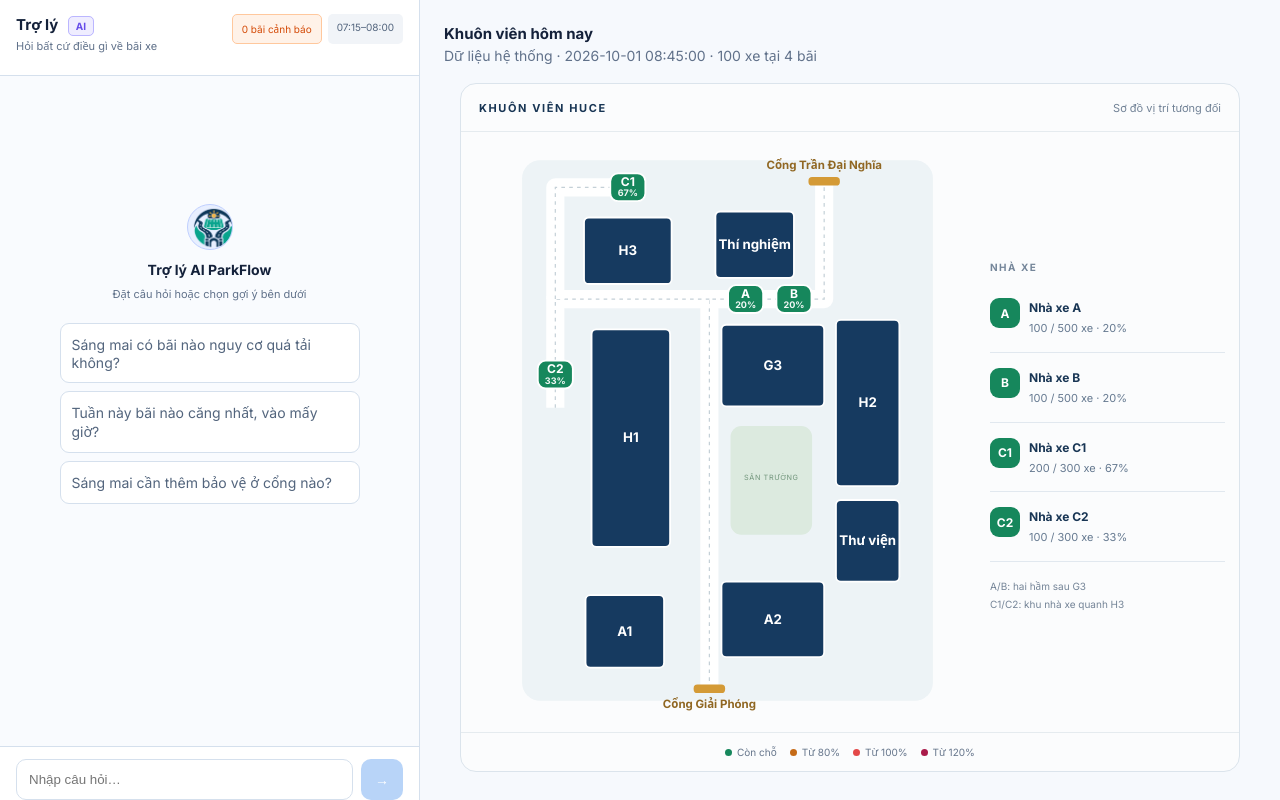
it: AssistantPage › resolves a coded lot label to the matching forecast lot
Step 1. Type "Bãi nào quá tải?" into the field labelled "Nhập câu hỏi" → [184, 780], box [16,759,353,799]
(page scrolled)
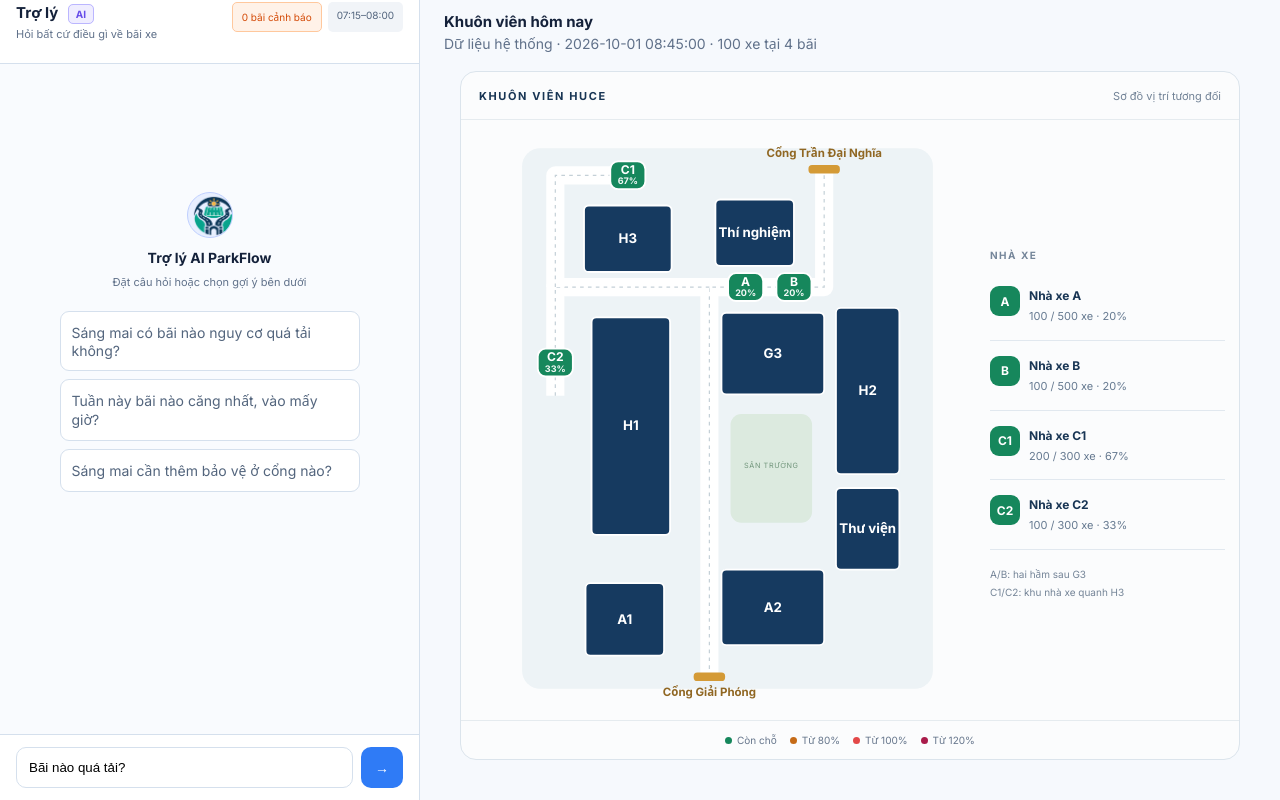
Step 2. Submit the form named "Nhập câu hỏi", box [0,734,419,799]
(page scrolled)
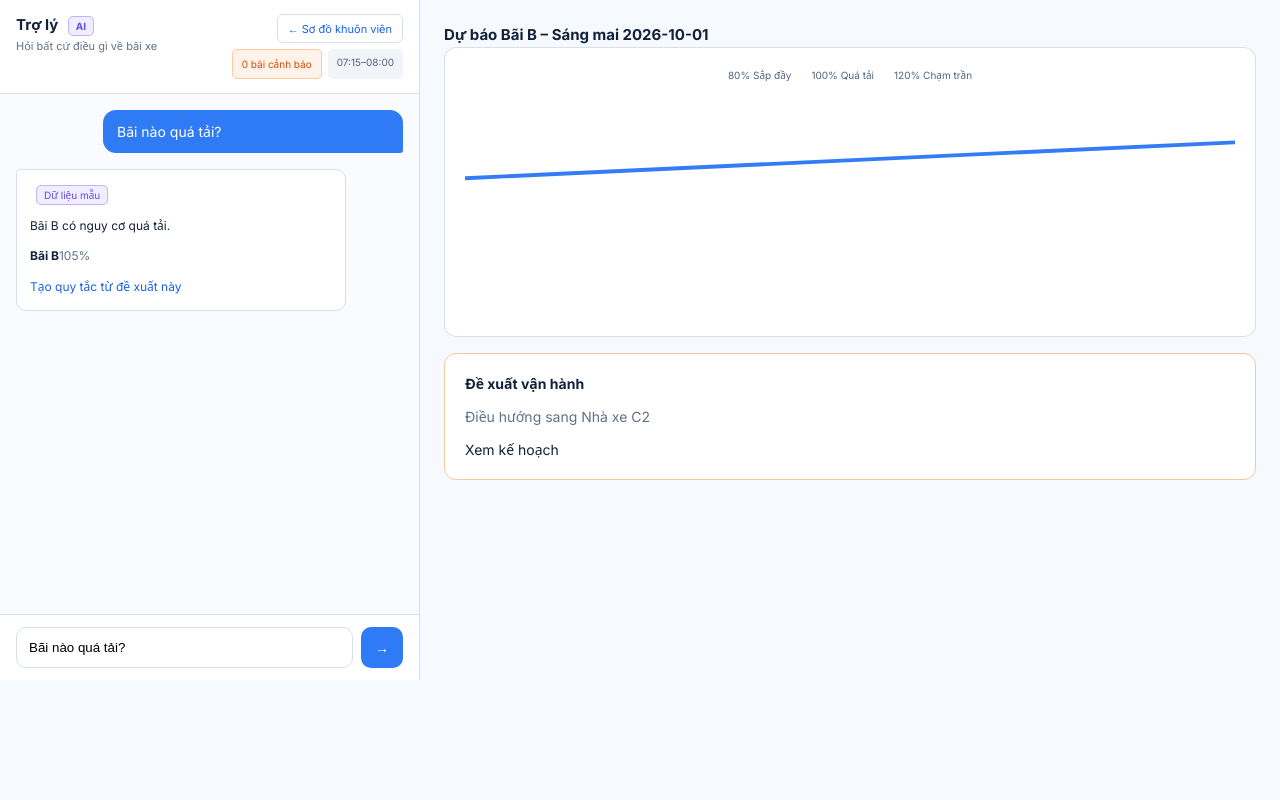
expect the text "Bãi B có nguy cơ quá tải." is shown: met, box [30,218,170,233]
